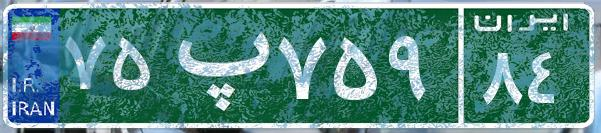4: (525, 38, 570, 115)
5: (330, 28, 385, 110), (110, 28, 158, 105)
7: (273, 28, 330, 110), (57, 26, 110, 107)
8: (475, 38, 525, 113)
9: (385, 28, 445, 110)
پ: (158, 15, 273, 115)
